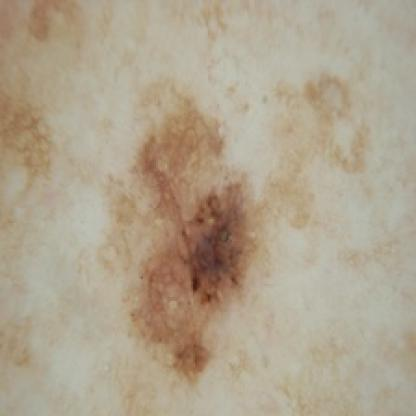malignant: (119, 111, 256, 353)
